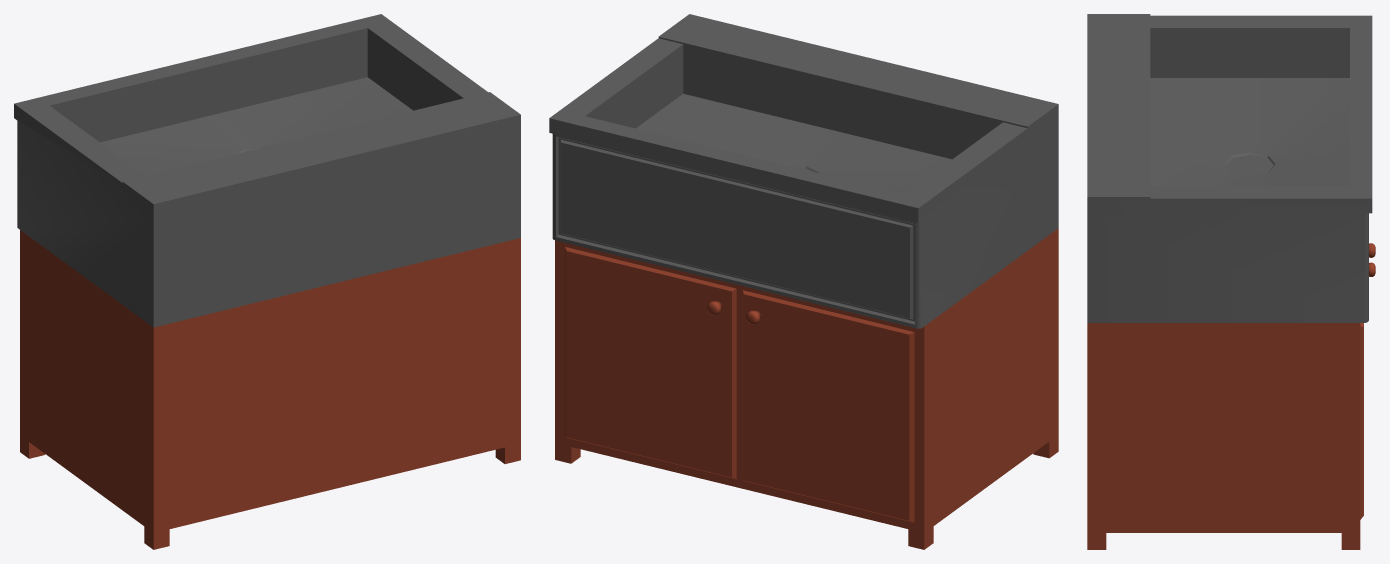
The model's file is Küchenmöbel.fbx_Sp_le.fbx.
The picture shows the model from 3 angles, left to right: view 1: azimuth 30°, elevation 25°; view 2: azimuth 150°, elevation 25°; view 3: azimuth 270°, elevation 25°; orthographic projection. The views are drawn at different scales.
Visible parts, largest first — view 1: Spüle, Unterschrank; view 2: Spüle, Unterschrank; view 3: Spüle, Unterschrank.
Part boxes in pixels (box(x1,y1,x2,y2)): Spüle: box(14, 14, 520, 327); Unterschrank: box(20, 230, 520, 549); Spüle: box(549, 14, 1058, 328); Unterschrank: box(555, 228, 1058, 549); Spüle: box(1087, 14, 1372, 322); Unterschrank: box(1087, 323, 1363, 549).
Size of the model in its own units: 100 by 89.95 by 66.55.
